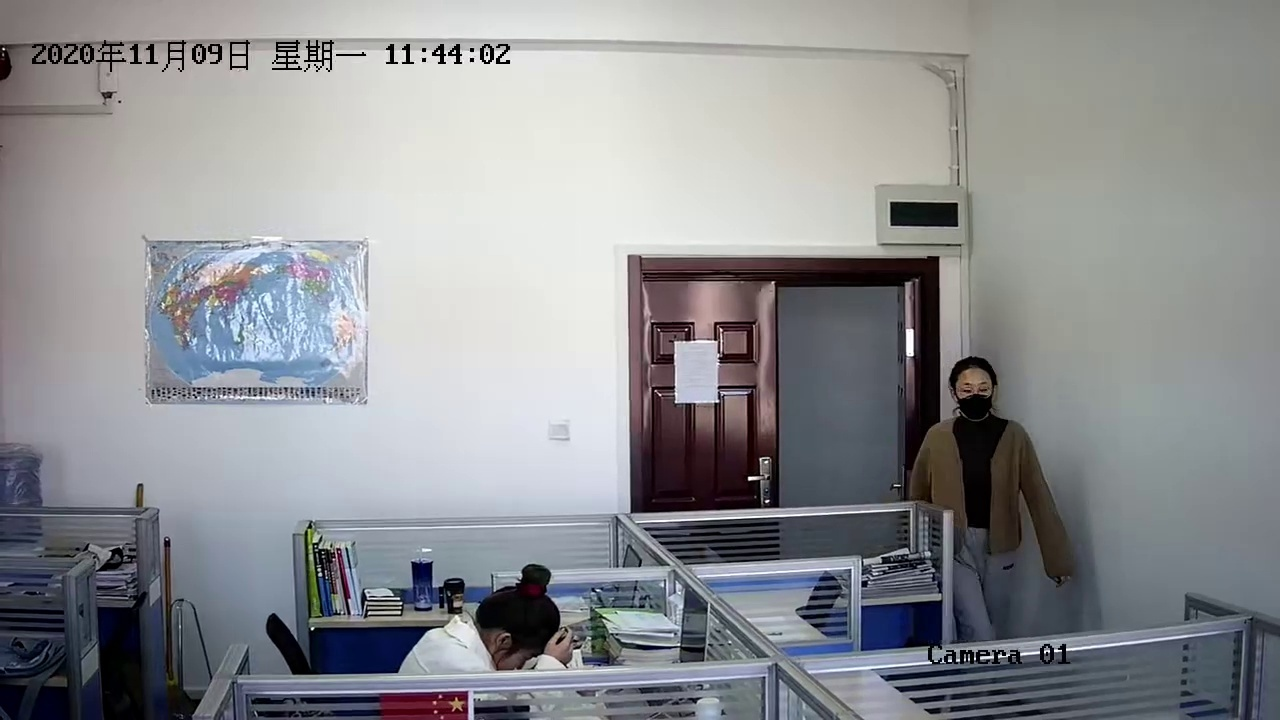mask: (948, 351, 1006, 422)
